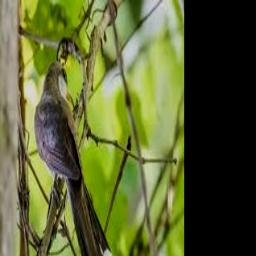Cuckoo: (34, 61, 115, 256)
